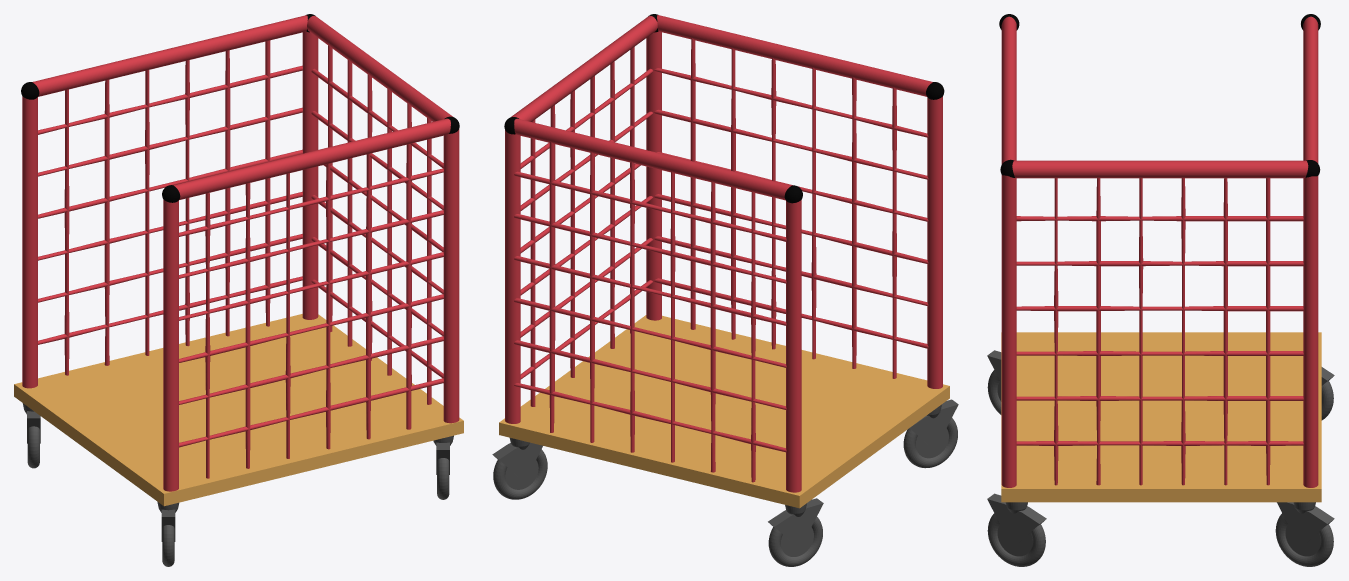
The model's file is PackageTrolleyred.fbx.
3 renders of one model, left to right at view 1: azimuth 30°, elevation 25°; view 2: azimuth 150°, elevation 25°; view 3: azimuth 270°, elevation 25°, orthographic. The views are drawn at different scales.
Parts seen in each view (by area): view 1: Cube, Cube.002, Plane, Plane.001, Plane.002, Cube.003, Cube.005, Cube.001; view 2: Cube, Cube.002, Plane.001, Plane, Plane.002, Cube.001, Cube.004, Cube.003; view 3: Cube, Cube.002, Plane.002, Cube.005, Cube.004, Cube.003, Cube.001.
Part boxes in pixels (<box>): Cube: <box>14,314,463,506</box>; Cube.002: <box>22,15,459,491</box>; Plane: <box>179,144,443,478</box>; Plane.001: <box>38,40,302,375</box>; Plane.002: <box>311,45,443,404</box>; Cube.003: <box>157,502,179,566</box>; Cube.005: <box>433,435,453,499</box>; Cube.001: <box>22,403,40,468</box>; Cube: <box>499,315,949,508</box>; Cube.002: <box>505,15,942,492</box>; Plane.001: <box>514,142,786,482</box>; Plane: <box>654,38,928,378</box>; Plane.002: <box>520,47,653,406</box>; Cube.001: <box>768,498,823,566</box>; Cube.004: <box>492,438,547,499</box>; Cube.003: <box>903,399,958,468</box>; Cube: <box>1001,332,1321,502</box>; Cube.002: <box>1001,16,1318,487</box>; Plane.002: <box>1016,178,1303,485</box>; Cube.005: <box>987,493,1046,566</box>; Cube.004: <box>1275,502,1334,566</box>; Cube.003: <box>987,350,1001,414</box>; Cube.001: <box>1321,367,1334,420</box>.
Bounding box in the file's own units: 272 × 320 × 248.
